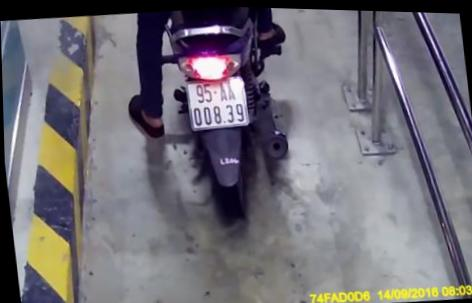LP: (183, 71, 251, 131)
